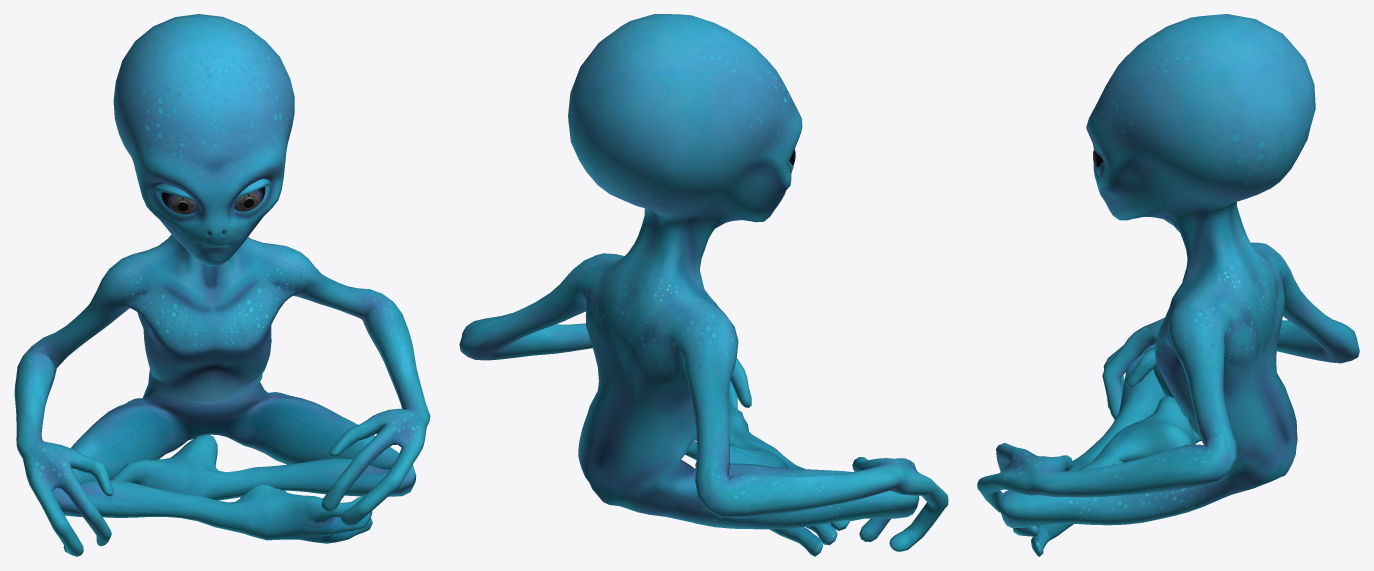
Rendered from alien.fbx.
3 views of the same model, side by side, from view 1: azimuth 30°, elevation 25°; view 2: azimuth 150°, elevation 25°; view 3: azimuth 270°, elevation 25° (orthographic). The views are drawn at different scales.
Visible parts, largest first — view 1: node_id5; view 2: node_id5; view 3: node_id5.
Boxes of the visible parts, x1=… form: node_id5: x1=14, y1=14, x2=430, y2=556; node_id5: x1=459, y1=14, x2=948, y2=556; node_id5: x1=977, y1=14, x2=1359, y2=556.
Size of the model in its own units: 0.4137 by 0.4731 by 0.3299.
Materials: 1 (1 with a texture image).
